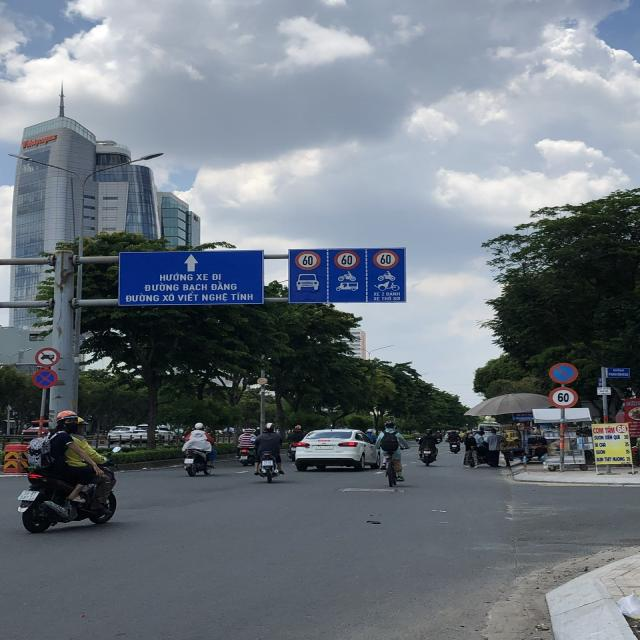Bien bao cam do xe: (546, 359, 584, 384)
Bien bao cam dung xe va do xe: (32, 367, 60, 390)
Bien bao cam xe oto tai: (35, 346, 62, 366)
Bien bao toc do toi da cho phep: (368, 247, 399, 273), (546, 385, 578, 409), (293, 248, 322, 272), (331, 249, 362, 270)
